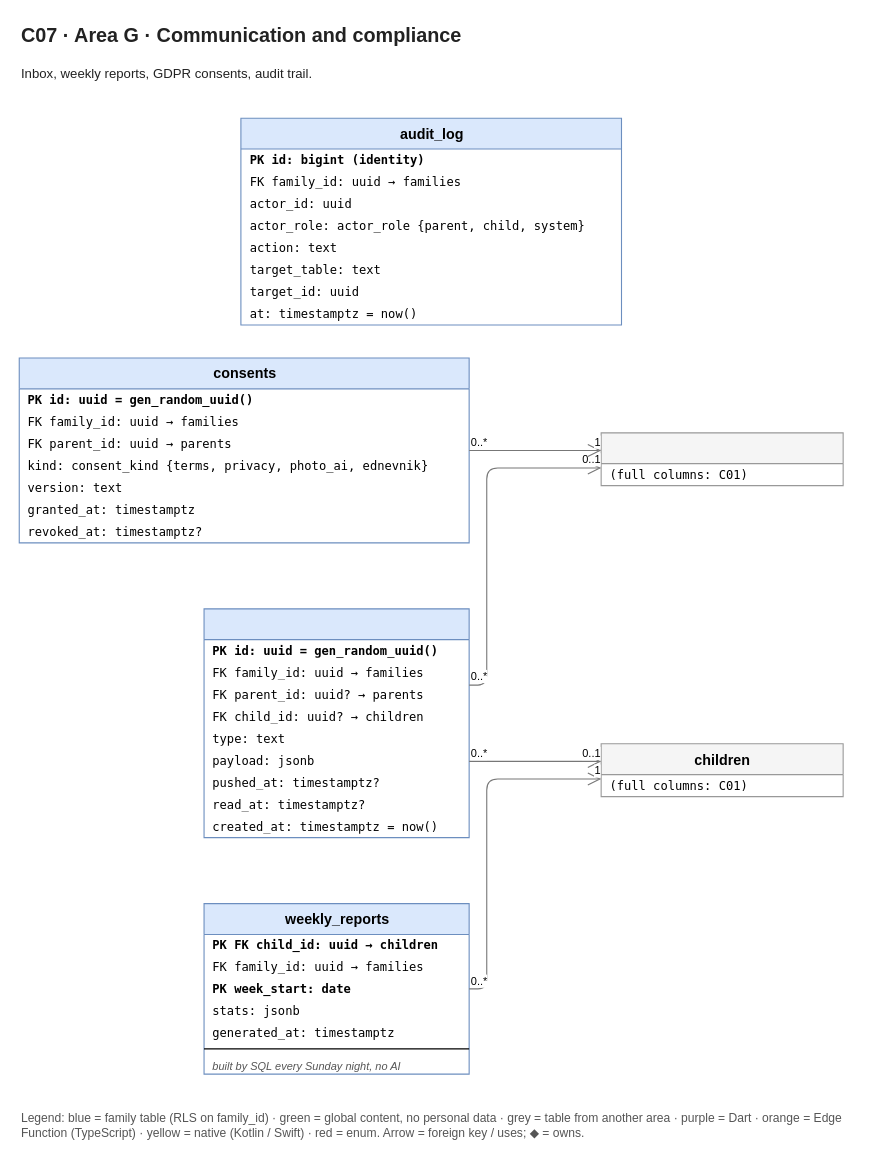
The diagram is 875 pixels wide and 1163 high, and some of its shapes have lost their labels. Here are the shapes that lost their labels. From the top down, the box of each, then its label:
(600, 432, 843, 486): parents
(203, 608, 469, 838): notifications
